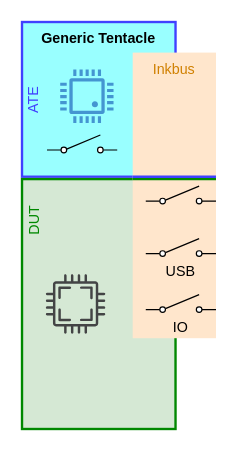
The diagram is 238 pixels wide and 450 high, and some of its shapes have lost their labels. The centre of each missing label's shape, as x and y in pixels:
"5V" belongs at [180,195].
"Boot DUT" belongs at [81,144].
